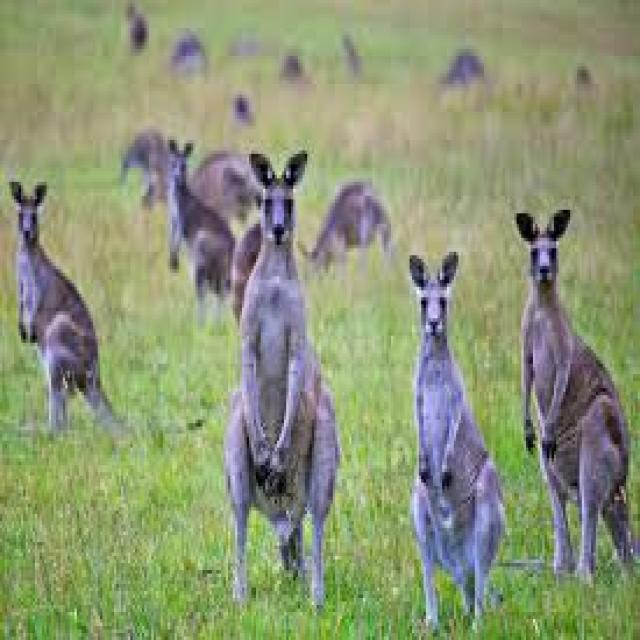Kangaroo: (218, 133, 348, 611), (507, 195, 640, 588), (402, 234, 510, 630), (4, 164, 134, 441), (160, 121, 234, 300)
